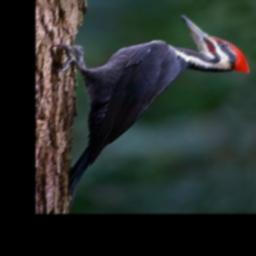Woodpecker: (51, 14, 250, 211)
